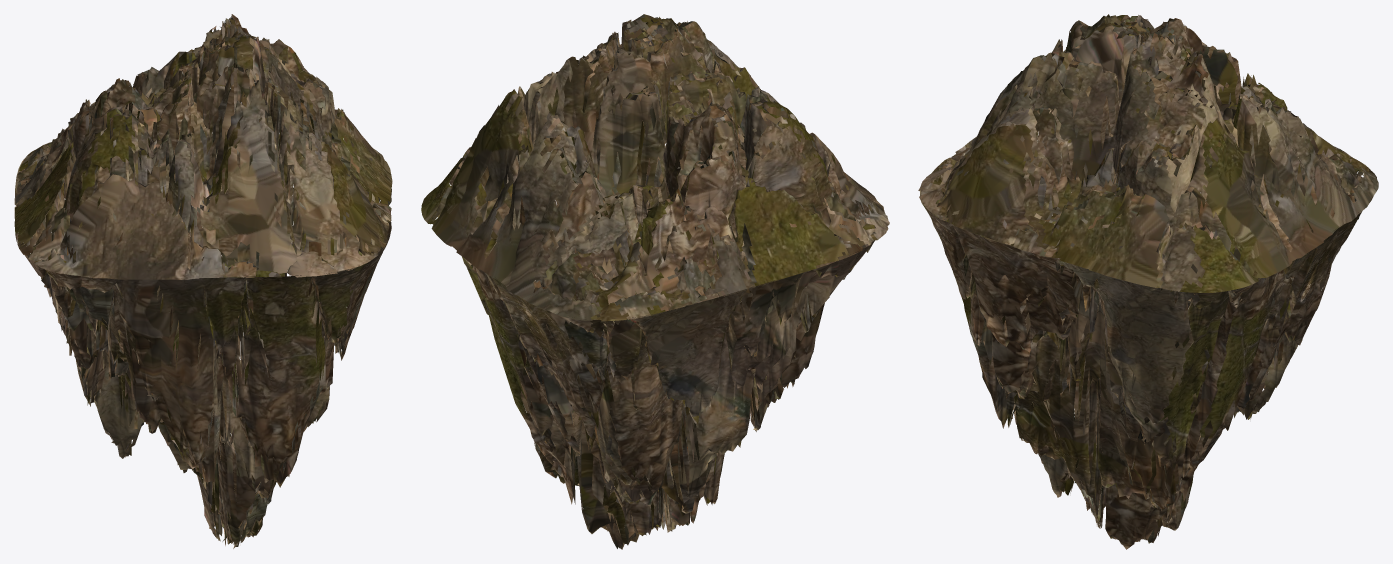
Rendered from ileflotante.glb.
3 renders of one model, left to right at view 1: azimuth 30°, elevation 25°; view 2: azimuth 150°, elevation 25°; view 3: azimuth 270°, elevation 25°, orthographic. The views are drawn at different scales.
Parts seen in each view (by area): view 1: Landscape.004; view 2: Landscape.004; view 3: Landscape.004.
Boxes of the visible parts, <box> form: Landscape.004: <box>14,14,392,548</box>; Landscape.004: <box>421,14,889,549</box>; Landscape.004: <box>918,14,1378,549</box>.
Size of the model in its own units: 3.78 by 4.76 by 3.83.
Materials: 1 (1 with a texture image).
